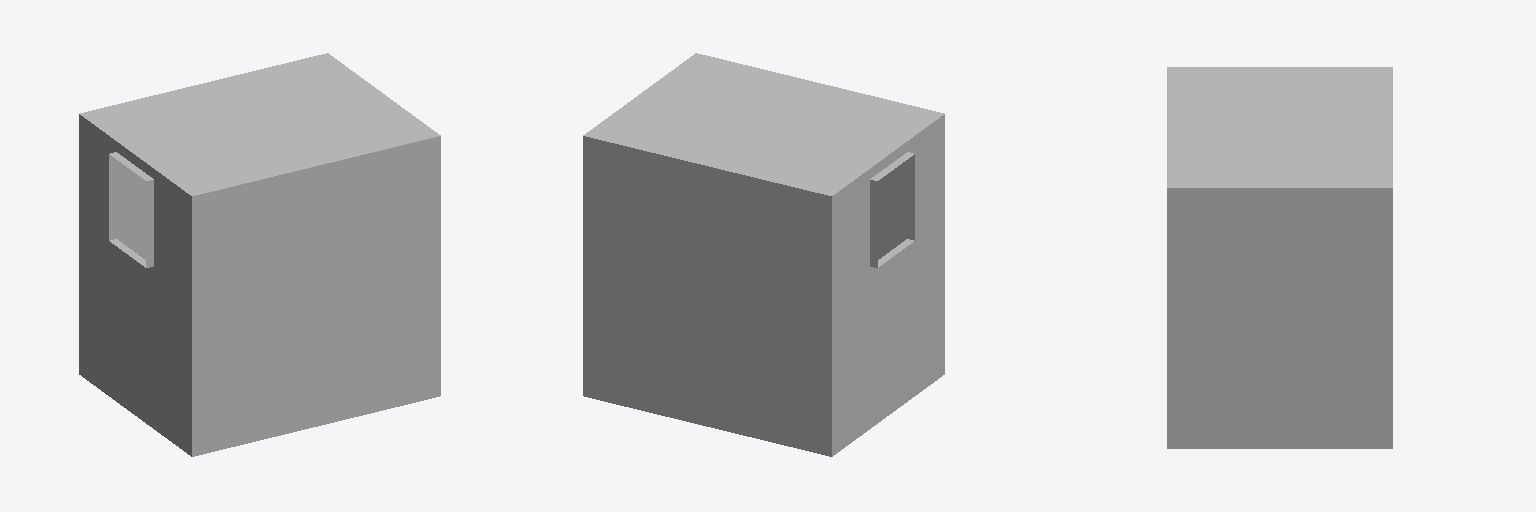
Rendered from BackWall.obj.
The picture shows the model from 3 angles: view 1: azimuth 30°, elevation 25°; view 2: azimuth 150°, elevation 25°; view 3: azimuth 270°, elevation 25°; orthographic projection.
Parts seen in each view (by area): view 1: BackWall_Cube; view 2: BackWall_Cube; view 3: BackWall_Cube.
Boxes of the visible parts, <box> form: BackWall_Cube: <box>79,53,440,456</box>; BackWall_Cube: <box>583,53,944,456</box>; BackWall_Cube: <box>1167,67,1392,448</box>.
Bounding box in the file's own units: 13.42 × 13.01 × 10.24.